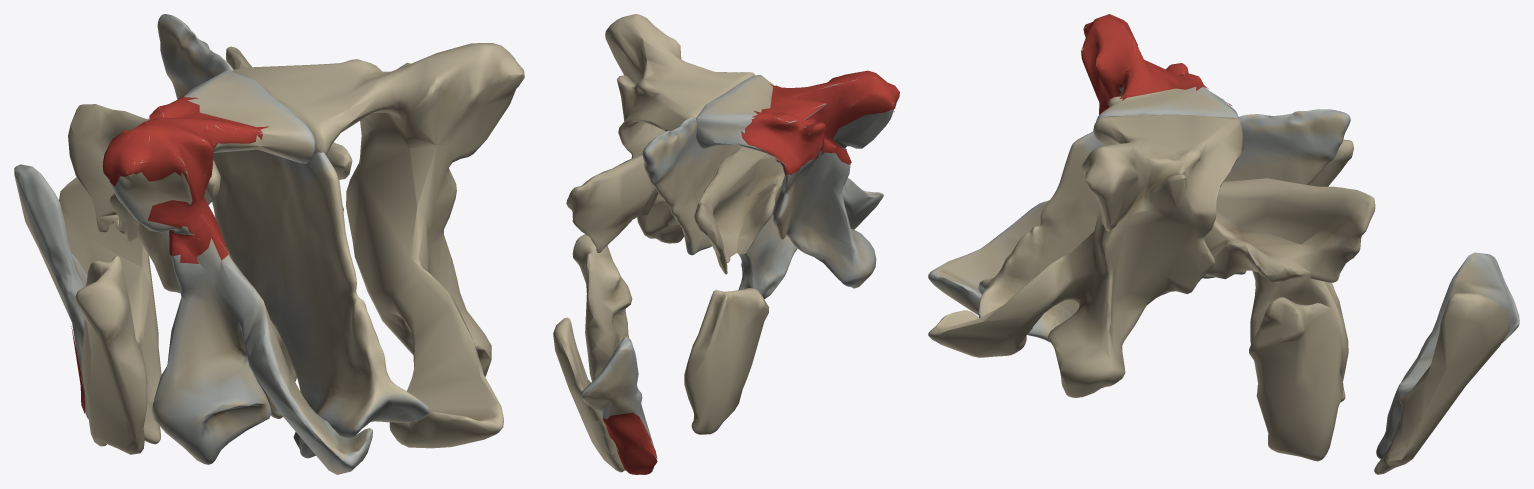
The model's file is ossa-nasi-faciei.glb.
3 views of the same model, side by side, from view 1: azimuth 30°, elevation 25°; view 2: azimuth 150°, elevation 25°; view 3: azimuth 270°, elevation 25° (orthographic). The views are drawn at different scales.
Parts seen in each view (by area): view 1: FJ3273, FJ3379, ossa-nasi-faciei__concha-inferior, origo__lamina-horizontalis__m-uvulae, FJ3395, FJ3371, FJ3272, FJ3369, FJ3378, FJ3263; view 2: FJ3379, FJ3273, origo__lamina-horizontalis__m-uvulae, FJ3371, FJ3369, FJ3395, FJ3263, FJ3265, FJ3378, ossa-nasi-faciei__concha-inferior, FJ3272, origo__lacrimale__m-procerus; view 3: FJ3273, FJ3395, FJ3263, FJ3265, FJ3272, FJ3379, origo__lamina-horizontalis__m-uvulae, FJ3378, FJ3371, FJ3369.
Part boxes in pixels (<box>): FJ3273: <box>231,43,524,448</box>; FJ3379: <box>107,70,372,474</box>; ossa-nasi-faciei__concha-inferior: <box>212,149,381,391</box>; origo__lamina-horizontalis__m-uvulae: <box>102,95,269,263</box>; FJ3395: <box>157,14,430,458</box>; FJ3371: <box>75,256,147,454</box>; FJ3272: <box>59,177,161,444</box>; FJ3369: <box>68,104,220,242</box>; FJ3378: <box>14,164,114,447</box>; FJ3263: <box>226,46,352,211</box>; FJ3379: <box>695,75,893,288</box>; FJ3273: <box>605,14,754,243</box>; origo__lamina-horizontalis__m-uvulae: <box>741,70,899,174</box>; FJ3371: <box>684,288,769,434</box>; FJ3369: <box>694,146,784,274</box>; FJ3395: <box>642,117,797,298</box>; FJ3263: <box>566,153,658,252</box>; FJ3265: <box>572,234,632,381</box>; FJ3378: <box>580,336,656,474</box>; ossa-nasi-faciei__concha-inferior: <box>667,144,775,255</box>; FJ3272: <box>553,317,625,472</box>; origo__lacrimale__m-procerus: <box>602,412,657,474</box>; FJ3273: <box>928,114,1243,397</box>; FJ3395: <box>978,109,1350,342</box>; FJ3263: <box>1204,178,1375,282</box>; FJ3265: <box>1249,297,1343,461</box>; FJ3272: <box>1374,293,1510,474</box>; FJ3379: <box>928,87,1238,315</box>; origo__lamina-horizontalis__m-uvulae: <box>1081,14,1232,114</box>; FJ3378: <box>1376,252,1519,459</box>; FJ3371: <box>1250,271,1348,402</box>; FJ3369: <box>1108,96,1353,186</box>.
Size of the model in its own units: 56.46 by 63.33 by 87.52.
